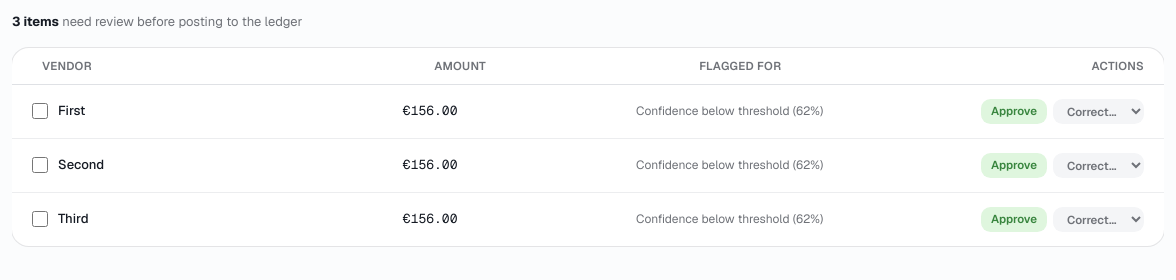
Test: ReviewQueueTable › bulk approving three rows keeps the failed one in place, not resorted or dropped
Click the checkbox named "Select First": {"x": 40, "y": 111} 32,103 -> 48,119
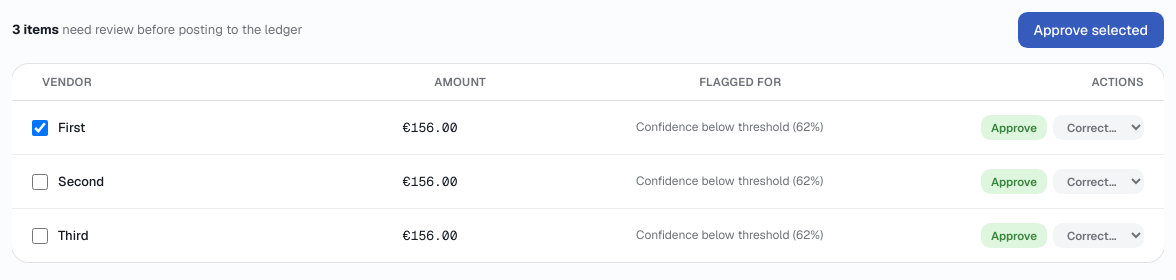
Click the checkbox named "Select Second": {"x": 40, "y": 182} 32,174 -> 48,190
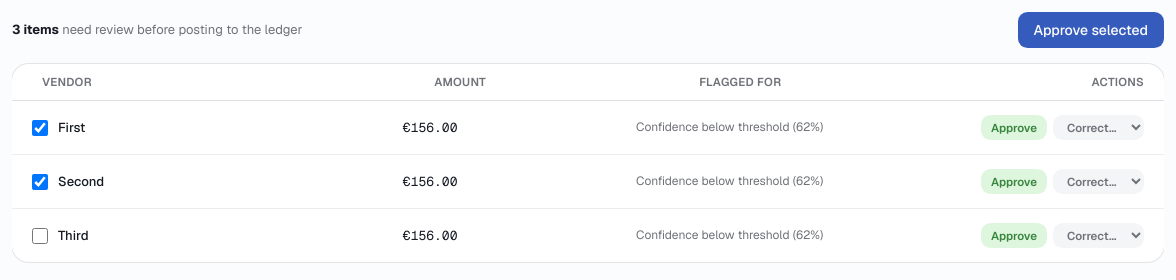
Click the checkbox named "Select Third": {"x": 40, "y": 236} 32,228 -> 48,244
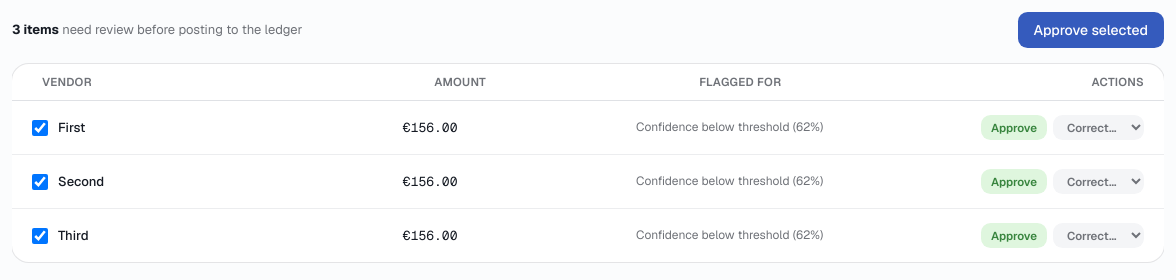
Click the button "Approve selected": {"x": 1091, "y": 30} 1018,12 -> 1164,48
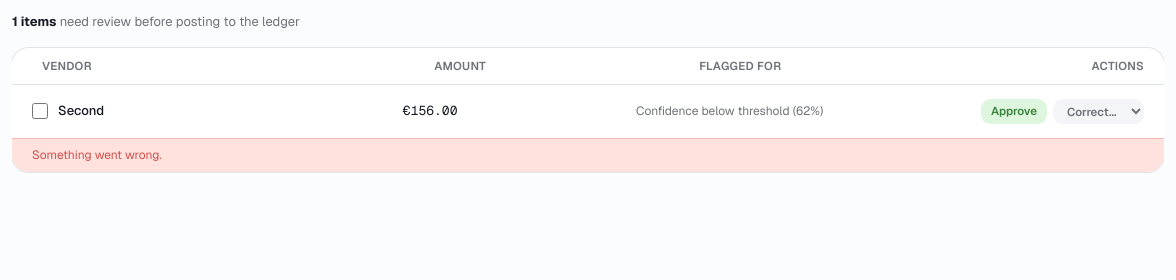
Expected: the text "Second" is shown, 58,102 -> 104,119
Expected: the message reads "Something went wrong.", 32,147 -> 162,163
Expected: the text "First" is gone
